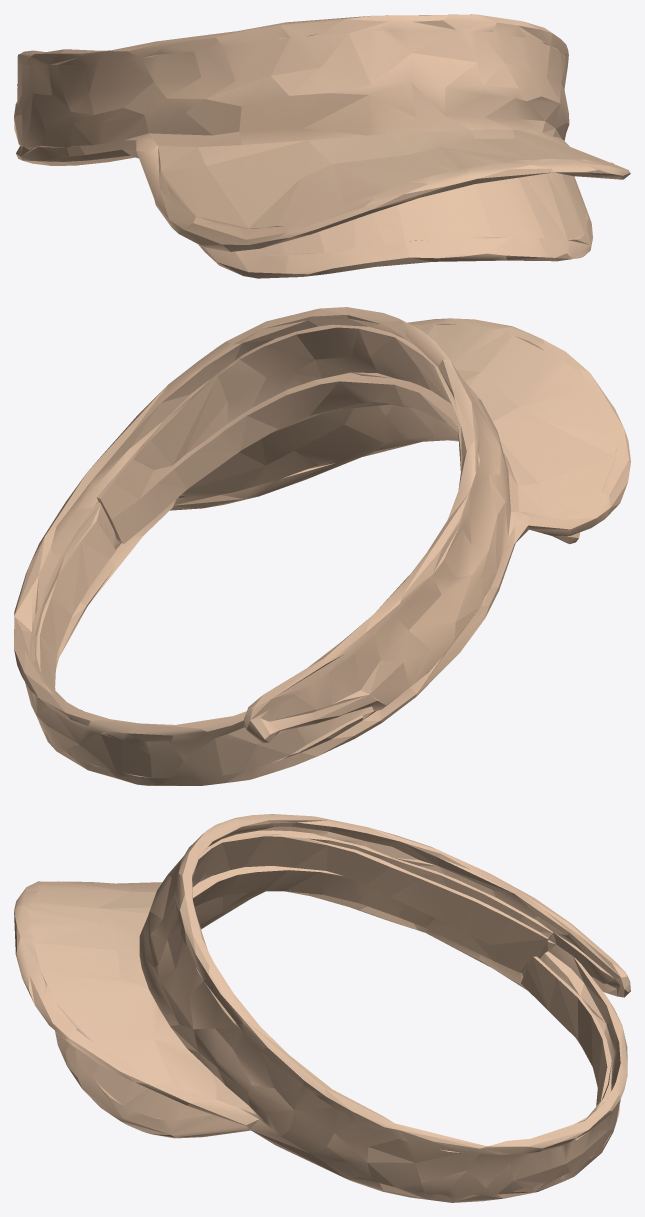
File: hunter-hat-visor.glb
3 views of the same model, one above another, from view 1: azimuth 30°, elevation 25°; view 2: azimuth 150°, elevation 25°; view 3: azimuth 270°, elevation 25° (orthographic). The views are drawn at different scales.
Size of the model in its own units: 1.42 by 0.946 by 1.9.
1 material, 1 textured.
